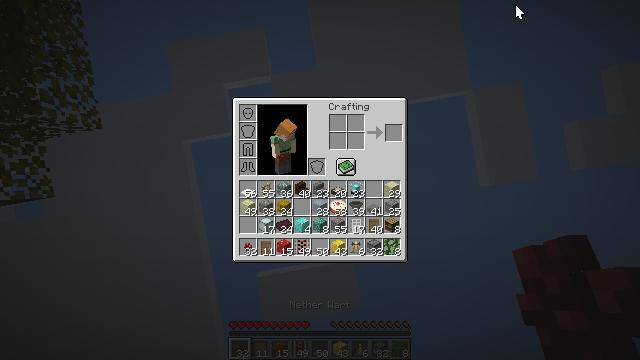cursor: (515, 4, 525, 20)
